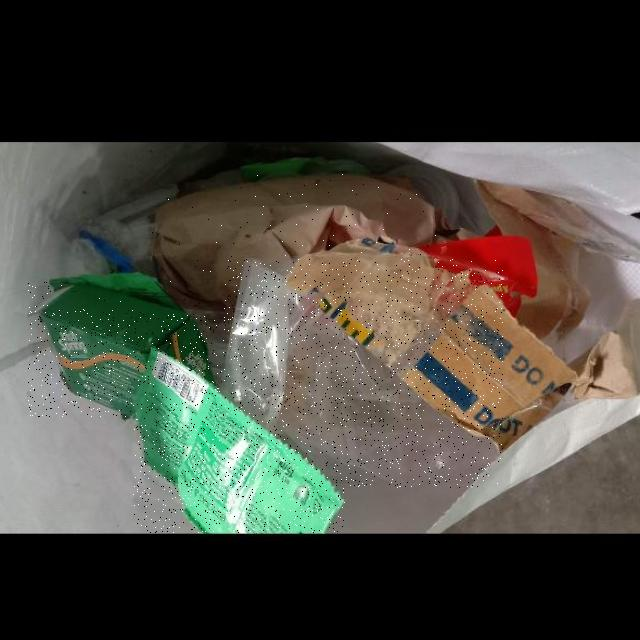paper: (152, 173, 436, 314), (29, 282, 217, 417)
plastic: (223, 260, 503, 488)
wrapper: (133, 349, 345, 533), (50, 272, 181, 309)
